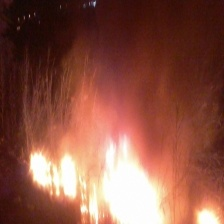fire: (27, 139, 219, 224)
